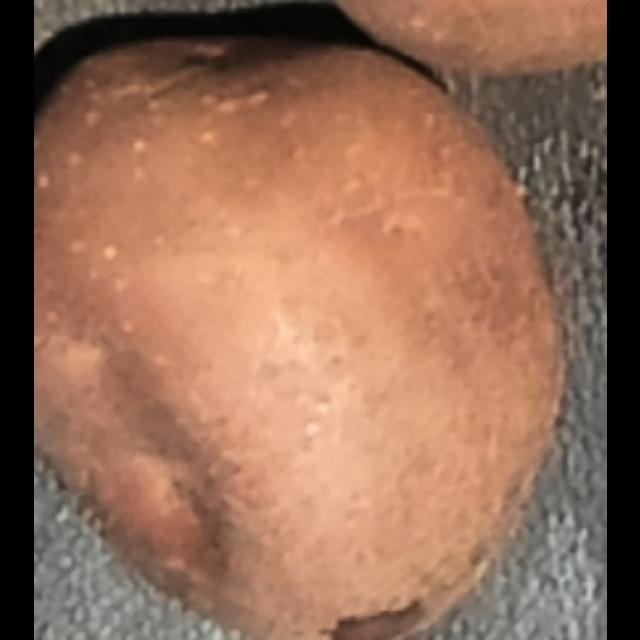Diseased-fungal potato: (34, 1, 572, 635)
